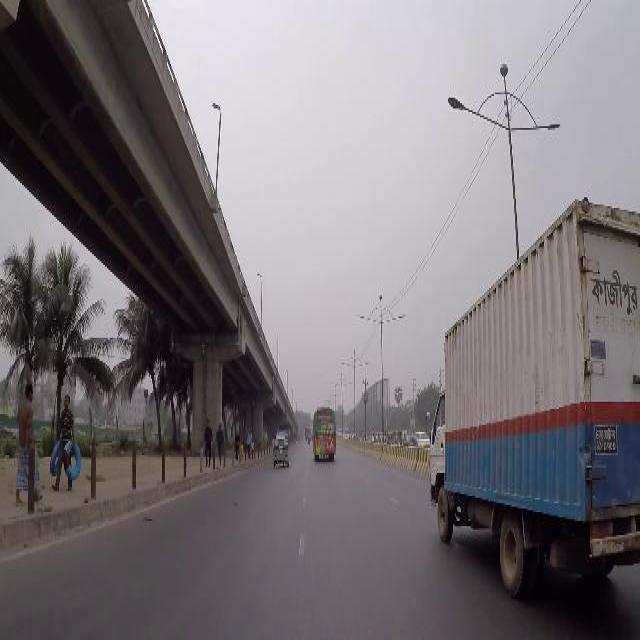17: (272, 429, 288, 467)
18: (423, 196, 637, 600)
9: (415, 428, 429, 446)
Truck: (312, 403, 336, 461), (304, 427, 310, 441)
